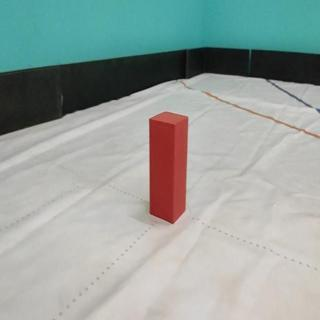redbox: (147, 111, 190, 226)
